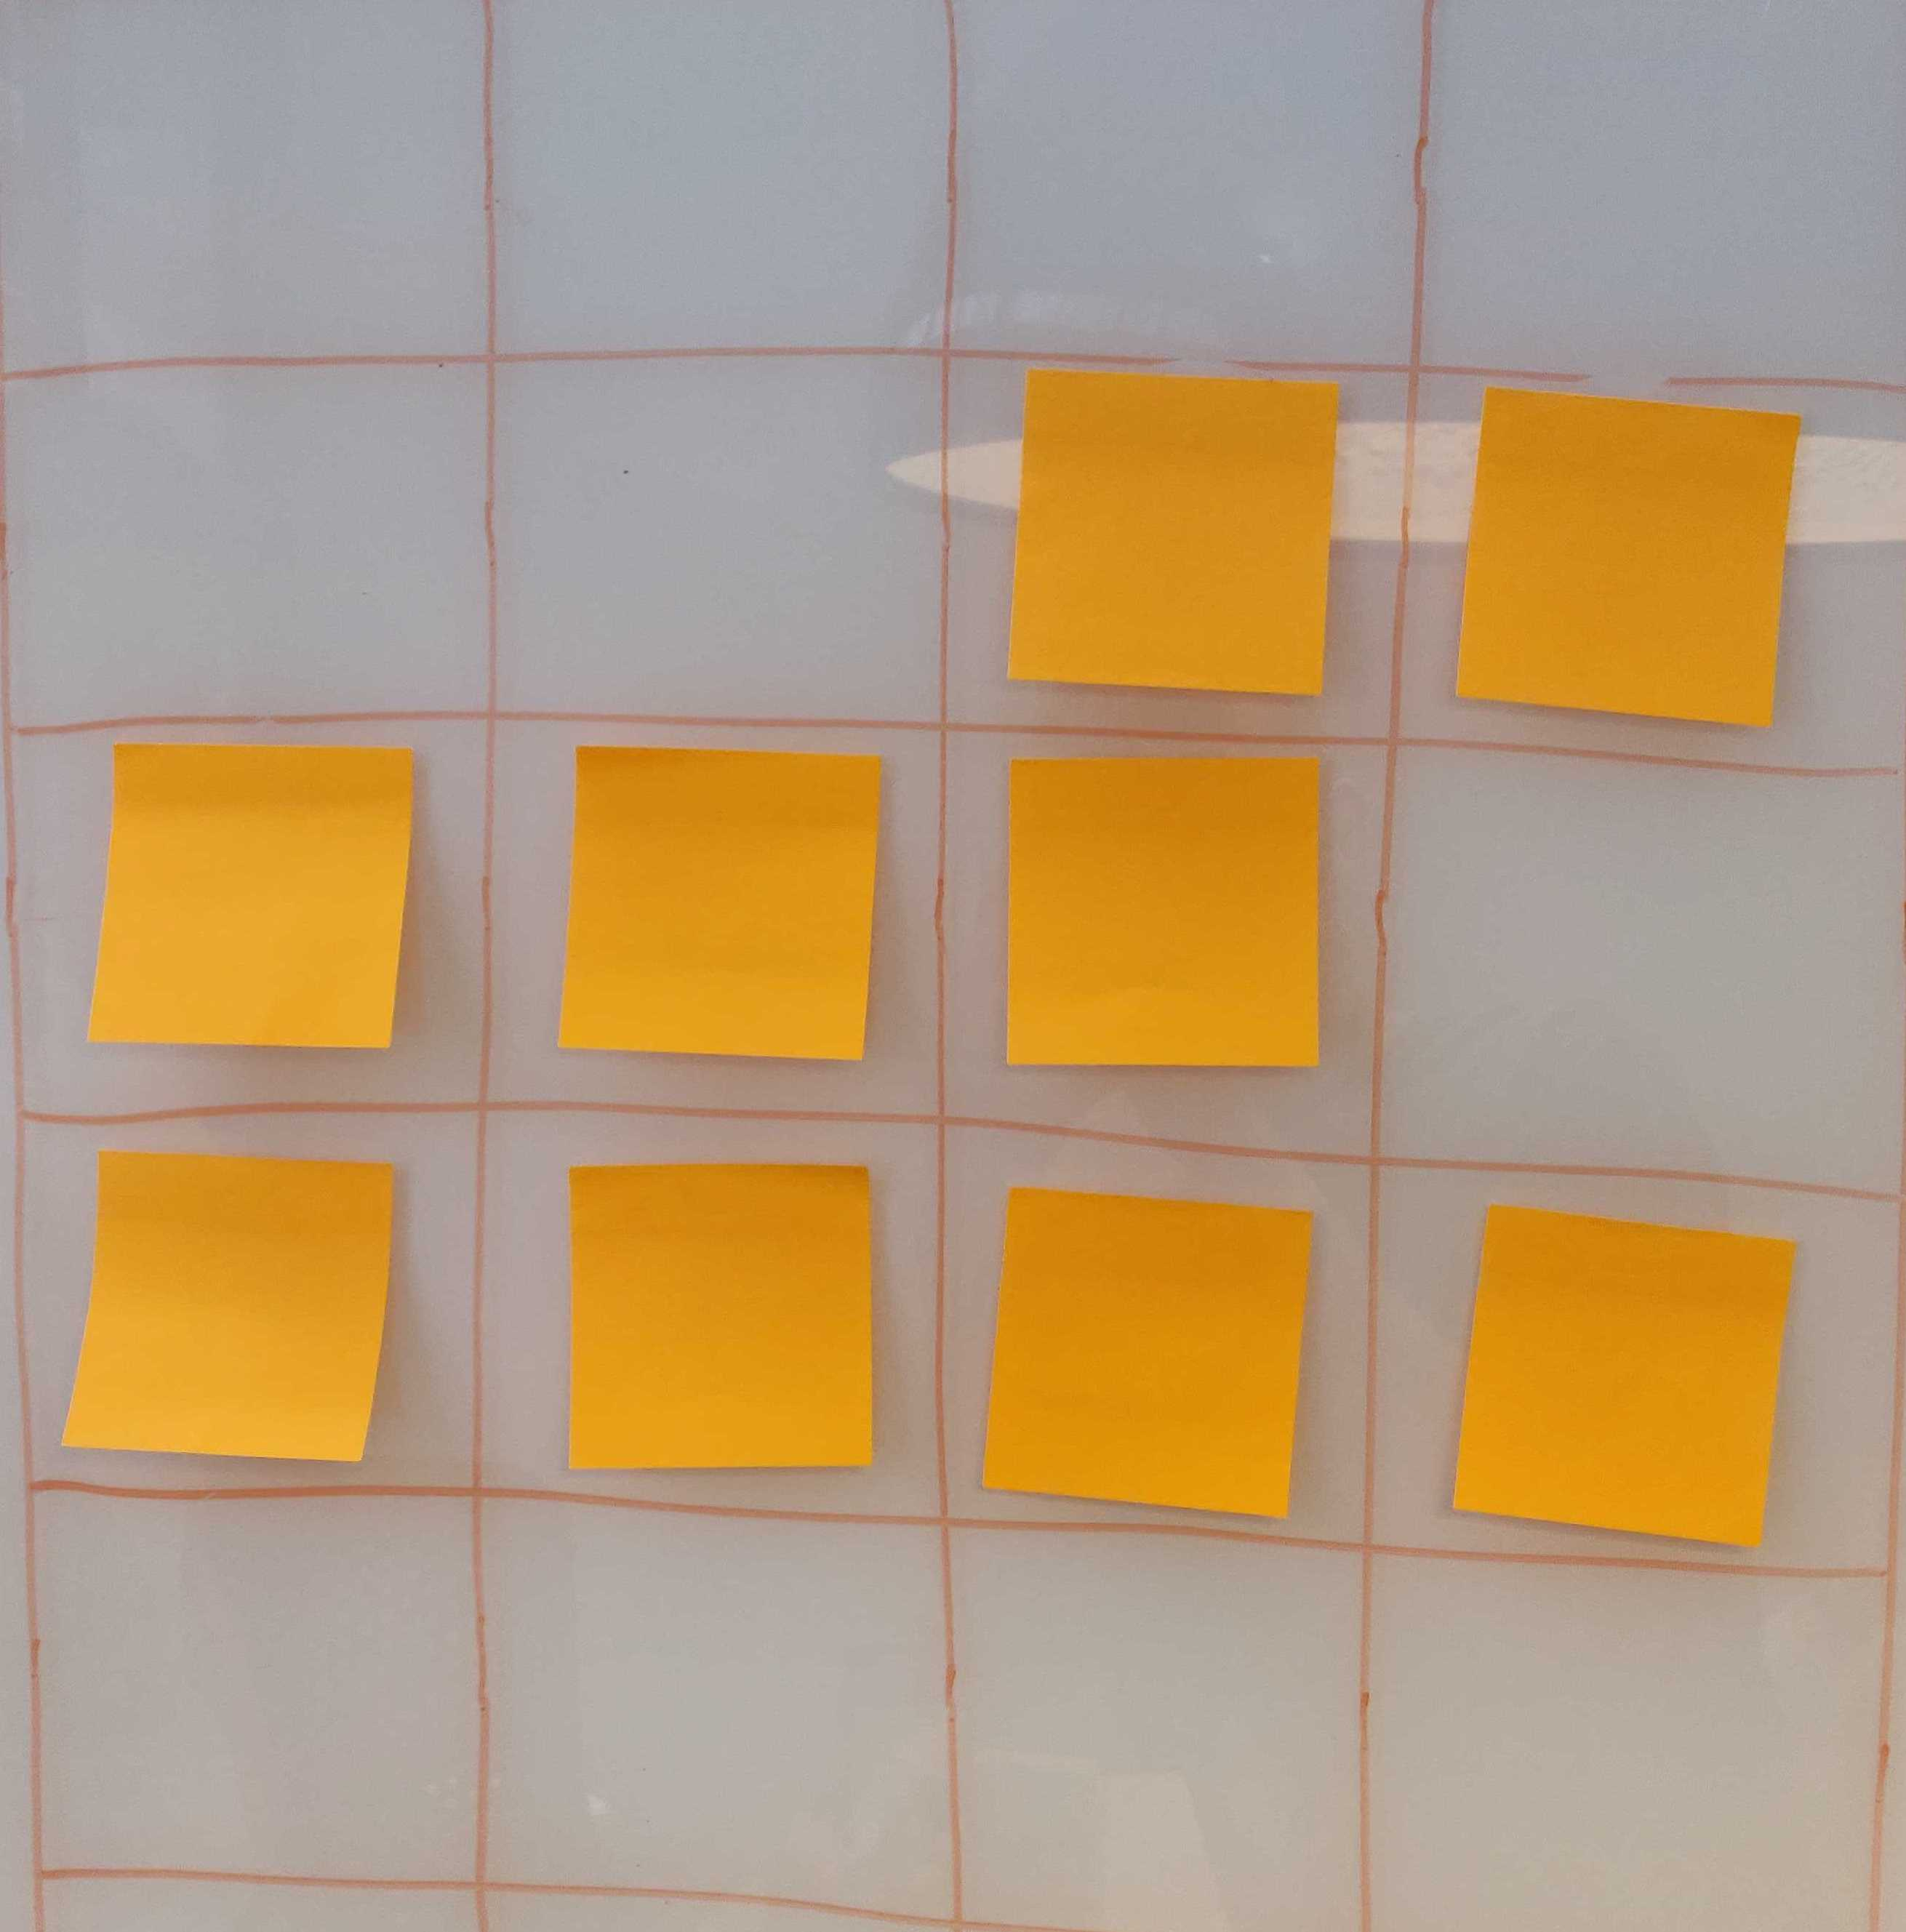stickynote: (1436, 366, 1817, 749), (1448, 1185, 1803, 1574), (975, 353, 1360, 708), (966, 747, 1355, 1097), (73, 721, 441, 1083), (51, 1129, 423, 1480), (980, 1171, 1330, 1539), (555, 1142, 898, 1489), (553, 726, 898, 1065)
